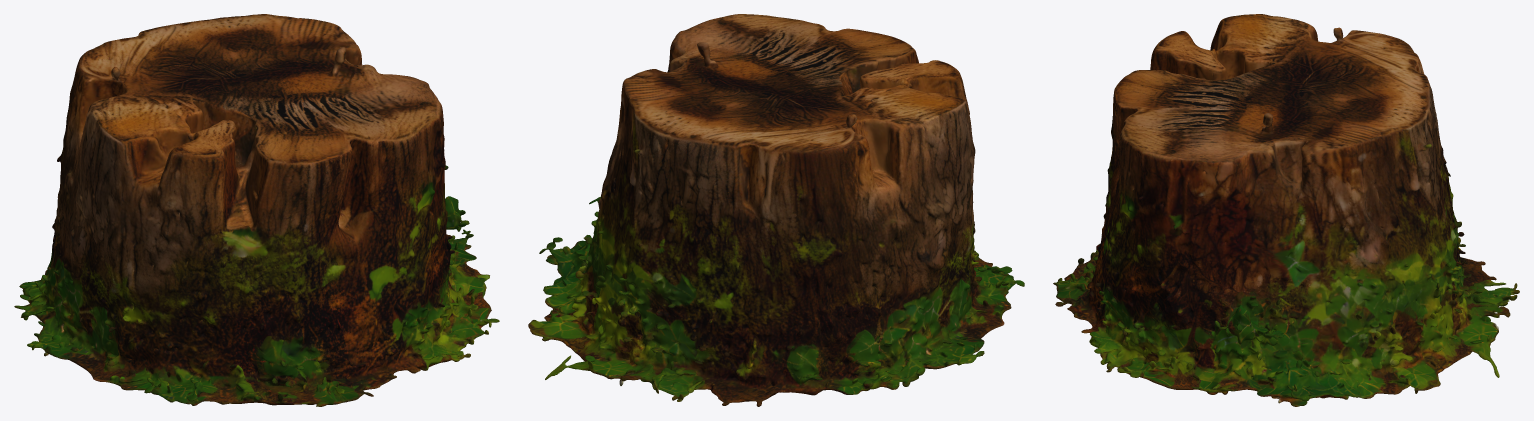
The model's file is trunkseat.glb.
The picture shows the model from 3 angles, left to right: view 1: azimuth 30°, elevation 25°; view 2: azimuth 150°, elevation 25°; view 3: azimuth 270°, elevation 25°; orthographic projection. The views are drawn at different scales.
Parts seen in each view (by area): view 1: tripo_node_eec39a89-f4af-47ed-83b5-023227f08565; view 2: tripo_node_eec39a89-f4af-47ed-83b5-023227f08565; view 3: tripo_node_eec39a89-f4af-47ed-83b5-023227f08565.
Part boxes in pixels (box(x1,y1,x2,y2)): tripo_node_eec39a89-f4af-47ed-83b5-023227f08565: box(14, 14, 499, 406); tripo_node_eec39a89-f4af-47ed-83b5-023227f08565: box(528, 14, 1024, 406); tripo_node_eec39a89-f4af-47ed-83b5-023227f08565: box(1053, 14, 1519, 406).
Size of the model in its own units: 1 by 0.567 by 0.9724.
1 material, 1 textured.
